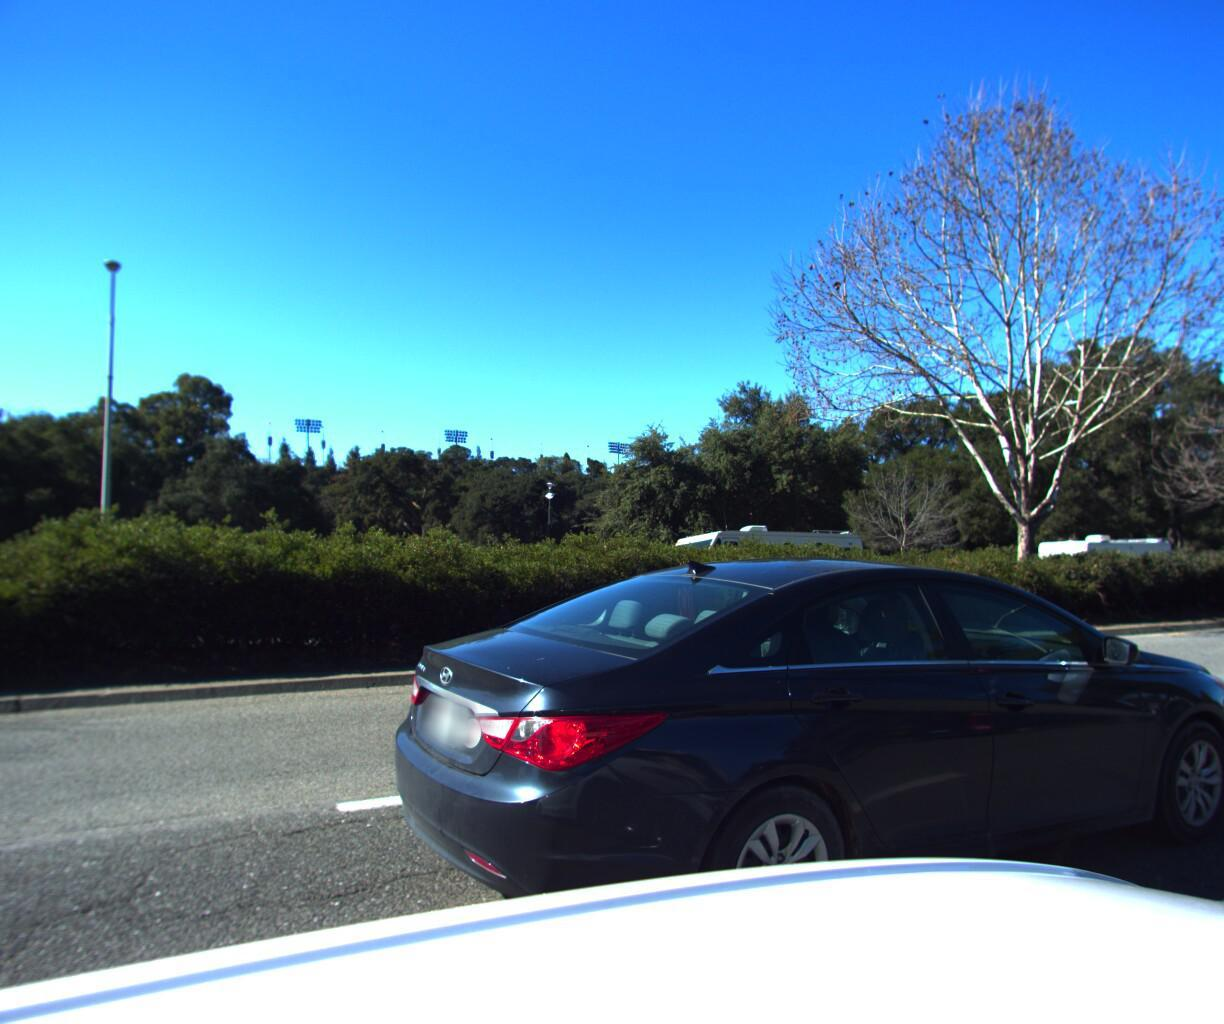car: (347, 551, 1224, 1024)
other_vehicle: (655, 521, 870, 618), (1021, 531, 1172, 603)
